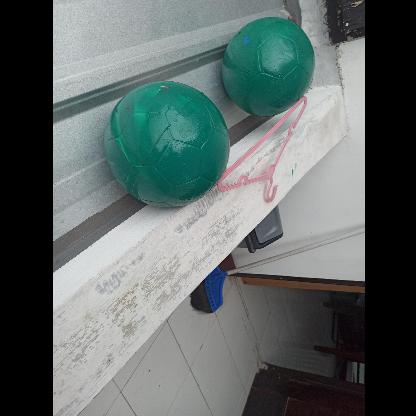green_ball: (103, 77, 231, 205), (219, 13, 321, 115)
